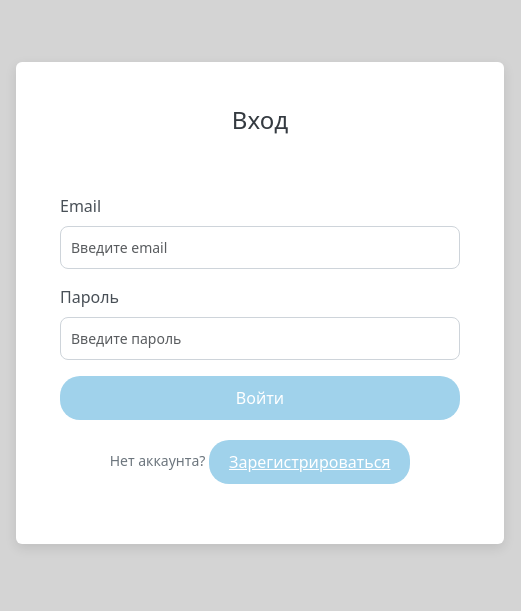
it: AuthPage.vue › переключается между режимами входа и регистрации
Expected: the heading "Вход" is shown, left=232, top=103, right=288, bottom=136
Click the button with class "btn-link": (310, 462) left=209, top=440, right=410, bottom=484
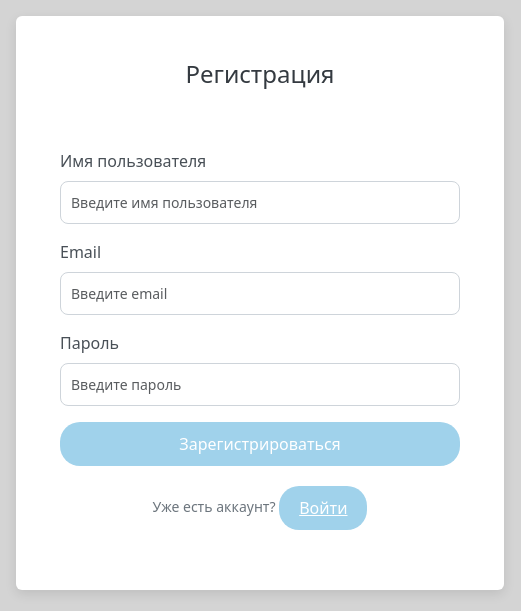
Result: the heading "Регистрация" is shown at left=186, top=57, right=335, bottom=90
